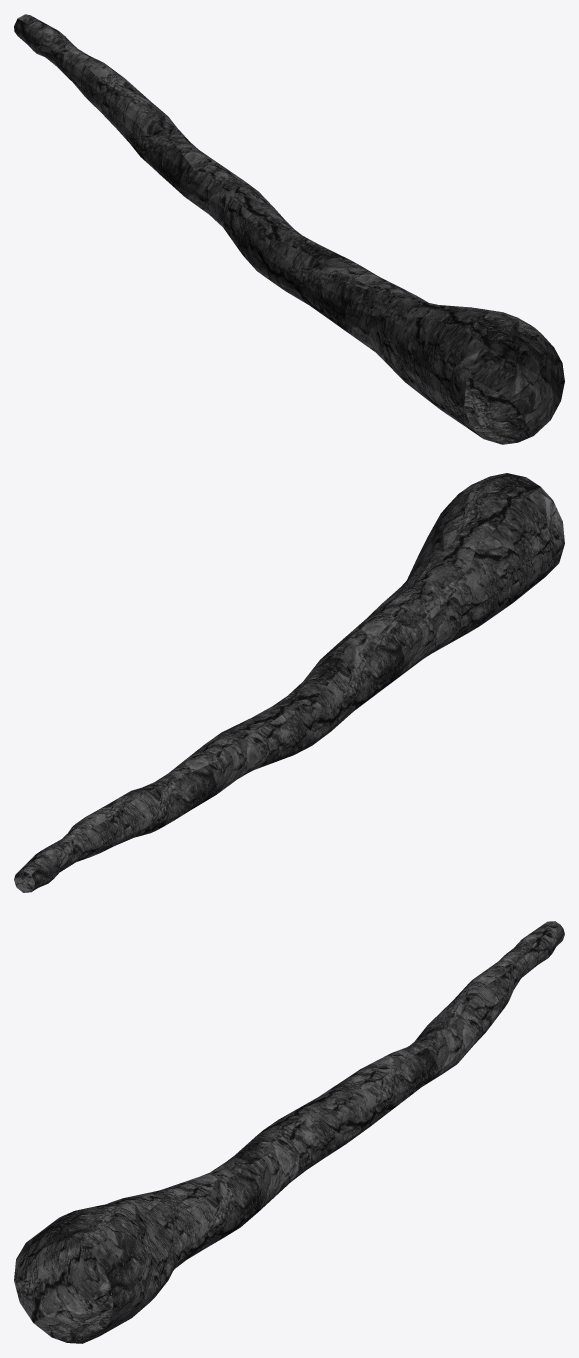
File: Boss_Cave_tunnel.fbx
3 views of the same model, one above another, from view 1: azimuth 30°, elevation 25°; view 2: azimuth 150°, elevation 25°; view 3: azimuth 330°, elevation 25° (orthographic).
Parts seen in each view (by area): view 1: Cylinder.001; view 2: Cylinder.001; view 3: Cylinder.001.
Part boxes in pixels (x1,y1,x2,y2): Cylinder.001: [14, 14, 564, 444]; Cylinder.001: [14, 473, 564, 892]; Cylinder.001: [14, 921, 564, 1343].
Size of the model in its own units: 611 by 616 by 4918.
